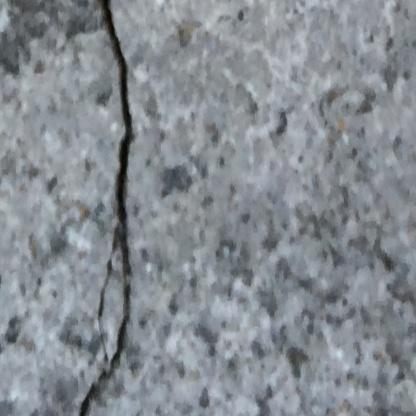Cracks: (73, 0, 139, 416), (94, 284, 111, 328)
